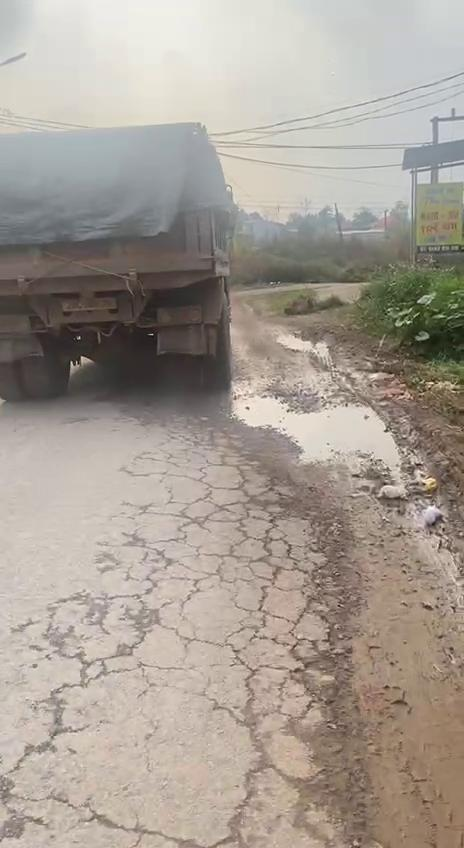pothole: (230, 391, 406, 477)
